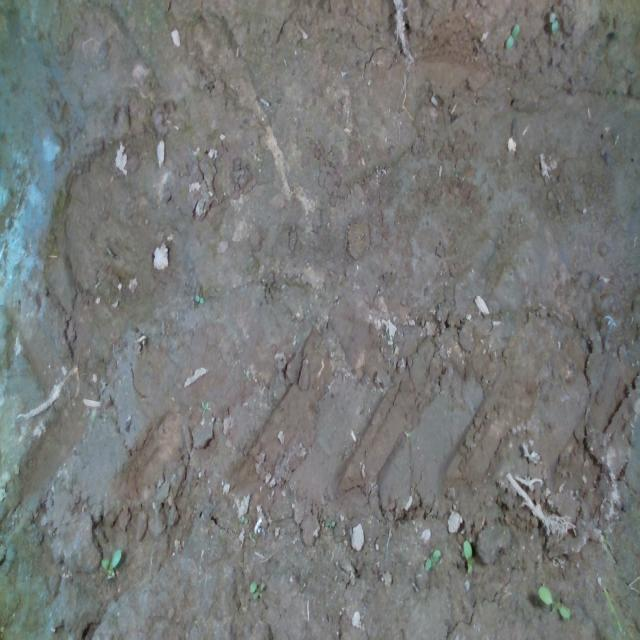weed: (537, 584, 571, 620), (504, 20, 520, 48), (424, 546, 441, 572), (462, 538, 473, 576), (248, 580, 266, 599), (548, 10, 559, 34), (193, 292, 204, 304), (613, 132, 619, 146)
